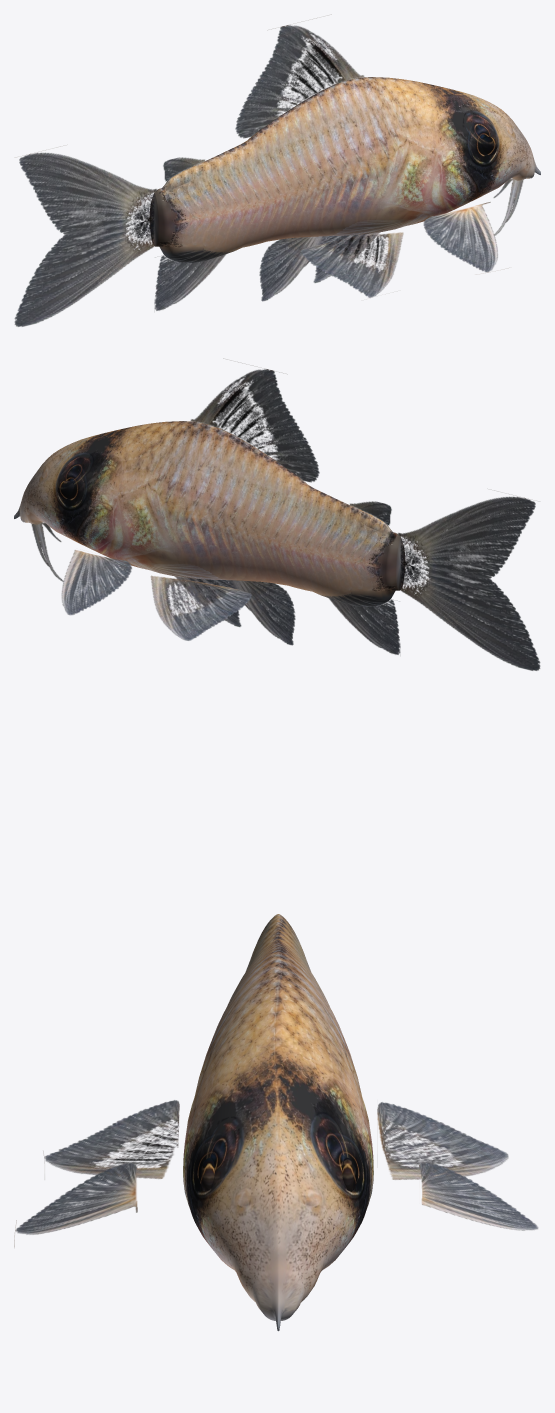
The model's file is species-panda.glb.
3 renders of one model, top to bottom at view 1: azimuth 30°, elevation 25°; view 2: azimuth 150°, elevation 25°; view 3: azimuth 270°, elevation 25°, orthographic. The views are drawn at different scales.
Visible parts, largest first — view 1: cory; view 2: cory; view 3: cory.
Part boxes in pixels (x1,y1,x2,y2): cory: [14, 14, 540, 326]; cory: [14, 358, 540, 670]; cory: [14, 914, 538, 1331].
Bounding box in the file's own units: 0.0388 × 0.0191 × 0.0215.
1 material, 1 textured.
